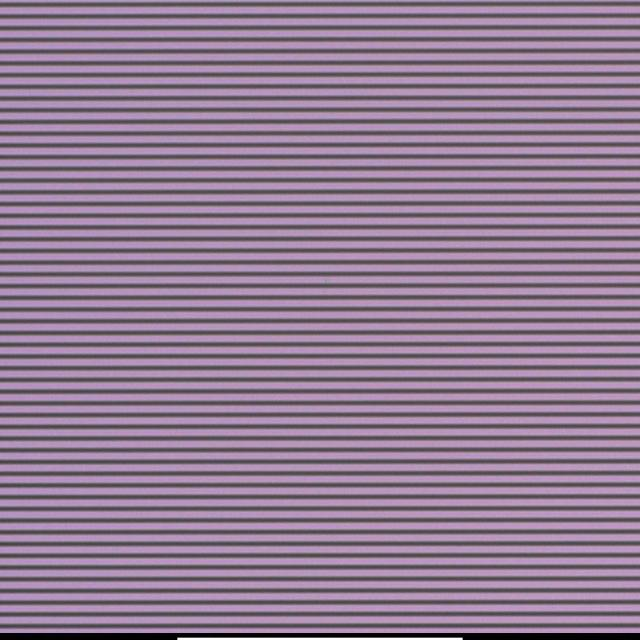nonvisual: (323, 279, 329, 285)
